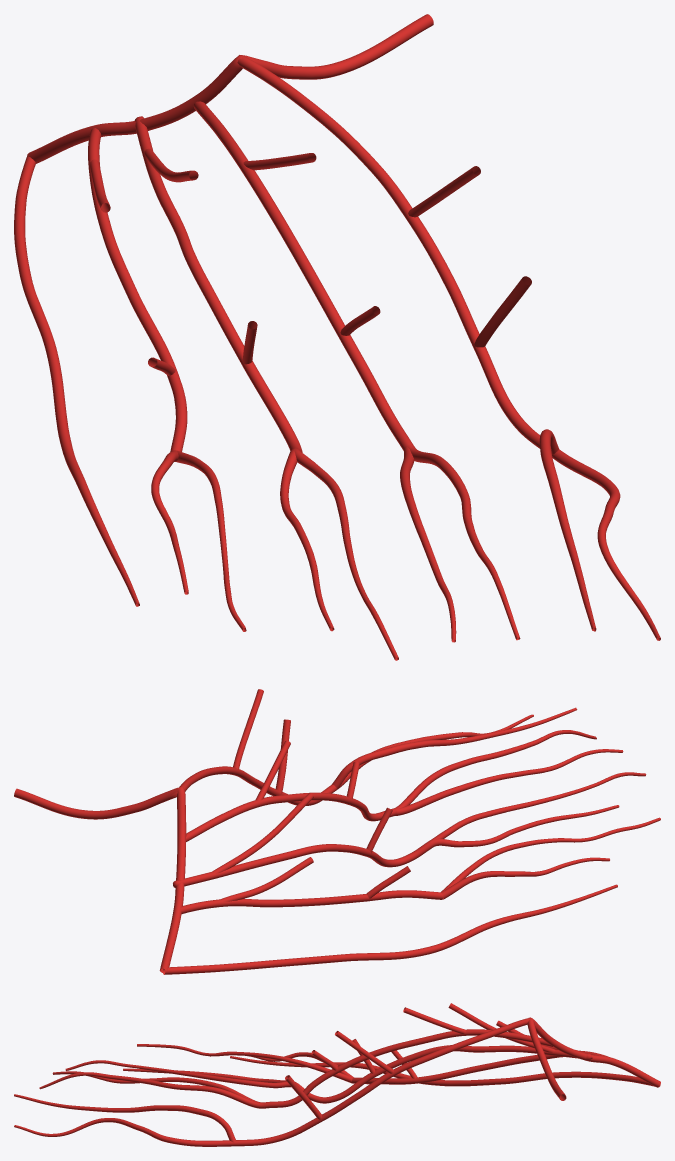
Rendered from circulatorio-plantar-arch-r.glb.
3 renders of one model, top to bottom at view 1: azimuth 30°, elevation 25°; view 2: azimuth 150°, elevation 25°; view 3: azimuth 270°, elevation 25°, orthographic. The views are drawn at different scales.
Parts seen in each view (by area): view 1: Proper plantar digital arteries.r, Plantar metatarsal arteries.r, Plantar arch.r, Common plantar digital arteries.r, Perforating branches of plantar metatarsal arteries.r; view 2: Proper plantar digital arteries.r, Plantar metatarsal arteries.r, Perforating branches of plantar metatarsal arteries.r, Plantar arch.r, Common plantar digital arteries.r; view 3: Proper plantar digital arteries.r, Plantar metatarsal arteries.r, Perforating branches of plantar metatarsal arteries.r, Common plantar digital arteries.r, Plantar arch.r.
Part boxes in pixels (x1=…): Proper plantar digital arteries.r: x1=14, y1=156, x2=660, y2=660; Plantar metatarsal arteries.r: x1=88, y1=56, x2=479, y2=369; Plantar arch.r: x1=27, y1=14, x2=433, y2=163; Common plantar digital arteries.r: x1=167, y1=334, x2=540, y2=452; Perforating branches of plantar metatarsal arteries.r: x1=90, y1=148, x2=531, y2=375; Proper plantar digital arteries.r: x1=162, y1=707, x2=660, y2=974; Plantar metatarsal arteries.r: x1=173, y1=766, x2=370, y2=913; Perforating branches of plantar metatarsal arteries.r: x1=212, y1=689, x2=410, y2=901; Plantar arch.r: x1=14, y1=787, x2=186, y2=972; Common plantar digital arteries.r: x1=281, y1=784, x2=443, y2=901; Proper plantar digital arteries.r: x1=14, y1=1044, x2=660, y2=1146; Plantar metatarsal arteries.r: x1=321, y1=1018, x2=608, y2=1121; Perforating branches of plantar metatarsal arteries.r: x1=285, y1=1003, x2=578, y2=1119; Common plantar digital arteries.r: x1=234, y1=1069, x2=416, y2=1146; Plantar arch.r: x1=527, y1=1017, x2=660, y2=1100.
Bounding box in the file's own units: 0.0839 × 0.0353 × 0.1436.
